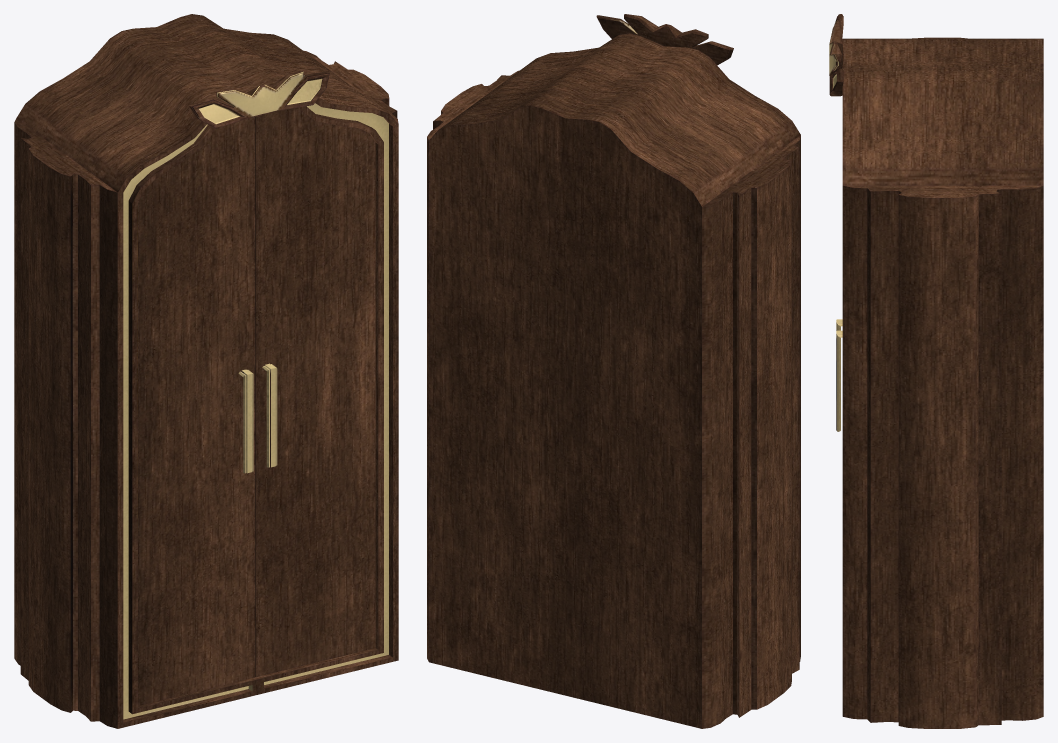
The model's file is shelf.fbx.
3 renders of one model, left to right at view 1: azimuth 30°, elevation 25°; view 2: azimuth 150°, elevation 25°; view 3: azimuth 270°, elevation 25°, orthographic. The views are drawn at different scales.
Parts seen in each view (by area): view 1: shelf; view 2: shelf; view 3: shelf.
Part boxes in pixels (left/top/right/bottom): shelf: left=14, top=14, right=398, bottom=728; shelf: left=427, top=14, right=800, bottom=728; shelf: left=829, top=14, right=1043, bottom=728.
Bounding box in the file's own units: 323 × 572 × 183.
